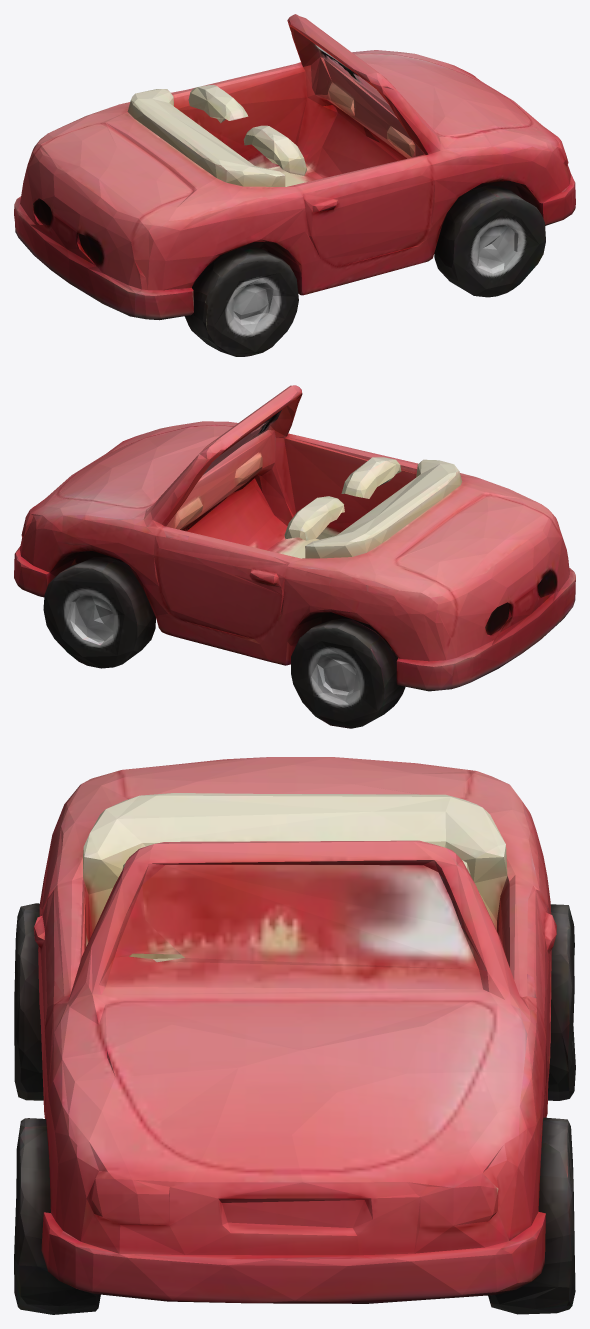
File: car-sport.glb
3 views of the same model, one above another, from view 1: azimuth 30°, elevation 25°; view 2: azimuth 150°, elevation 25°; view 3: azimuth 270°, elevation 25° (orthographic). The views are drawn at different scales.
Parts seen in each view (by area): view 1: geometry_0; view 2: geometry_0; view 3: geometry_0.
Boxes of the visible parts, x1=… form: geometry_0: x1=14, y1=14, x2=575, y2=356; geometry_0: x1=14, y1=385, x2=575, y2=728; geometry_0: x1=14, y1=757, x2=575, y2=1314.
Size of the model in its own units: 0.9928 by 0.4416 by 0.5752.
Materials: 1 (1 with a texture image).
